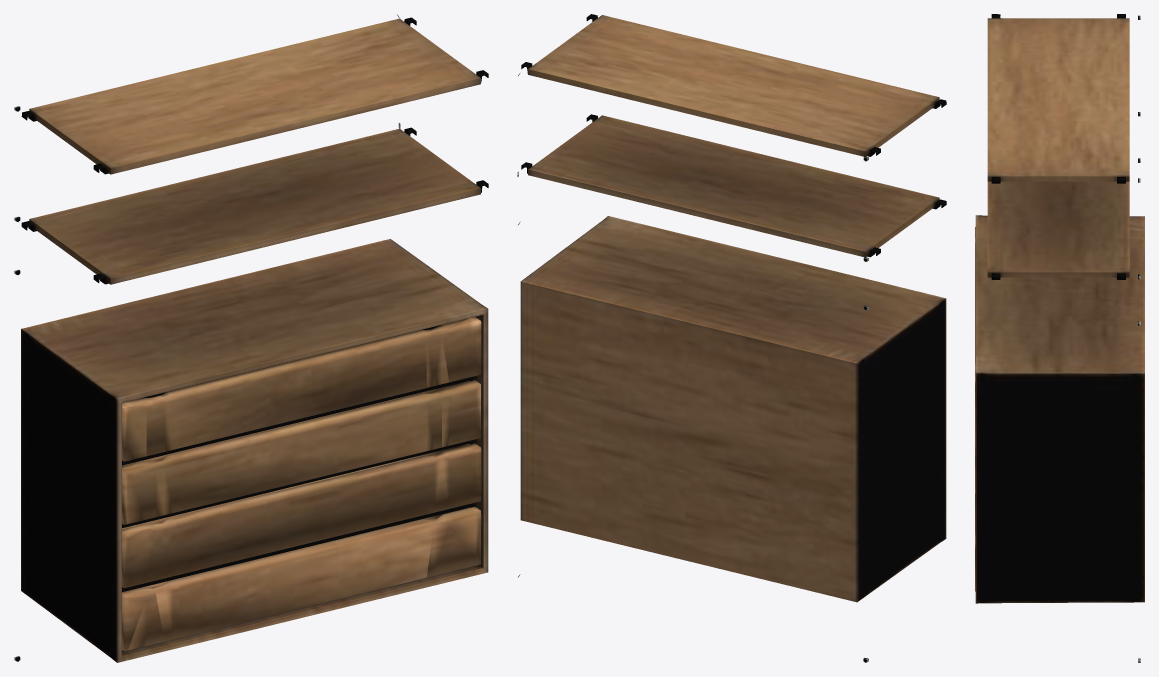
Rendered from drawer_cabinet.glb.
3 renders of one model, left to right at view 1: azimuth 30°, elevation 25°; view 2: azimuth 150°, elevation 25°; view 3: azimuth 270°, elevation 25°, orthographic. The views are drawn at different scales.
Parts seen in each view (by area): view 1: drawer_cabinet, drawer_cabinet_drawer_03, drawer_cabinet_drawer_02, drawer_cabinet_drawer_04, drawer_cabinet_drawer_01; view 2: drawer_cabinet; view 3: drawer_cabinet.
Part boxes in pixels (<box>): drawer_cabinet: <box>14,14,488,662</box>; drawer_cabinet_drawer_03: <box>122,443,481,588</box>; drawer_cabinet_drawer_02: <box>122,380,480,524</box>; drawer_cabinet_drawer_04: <box>122,506,481,651</box>; drawer_cabinet_drawer_01: <box>122,317,481,461</box>; drawer_cabinet: <box>517,14,946,662</box>; drawer_cabinet: <box>975,14,1144,662</box>.
Bounding box in the file's own units: 1.13 × 1.54 × 0.488.
1 material, 1 textured.
